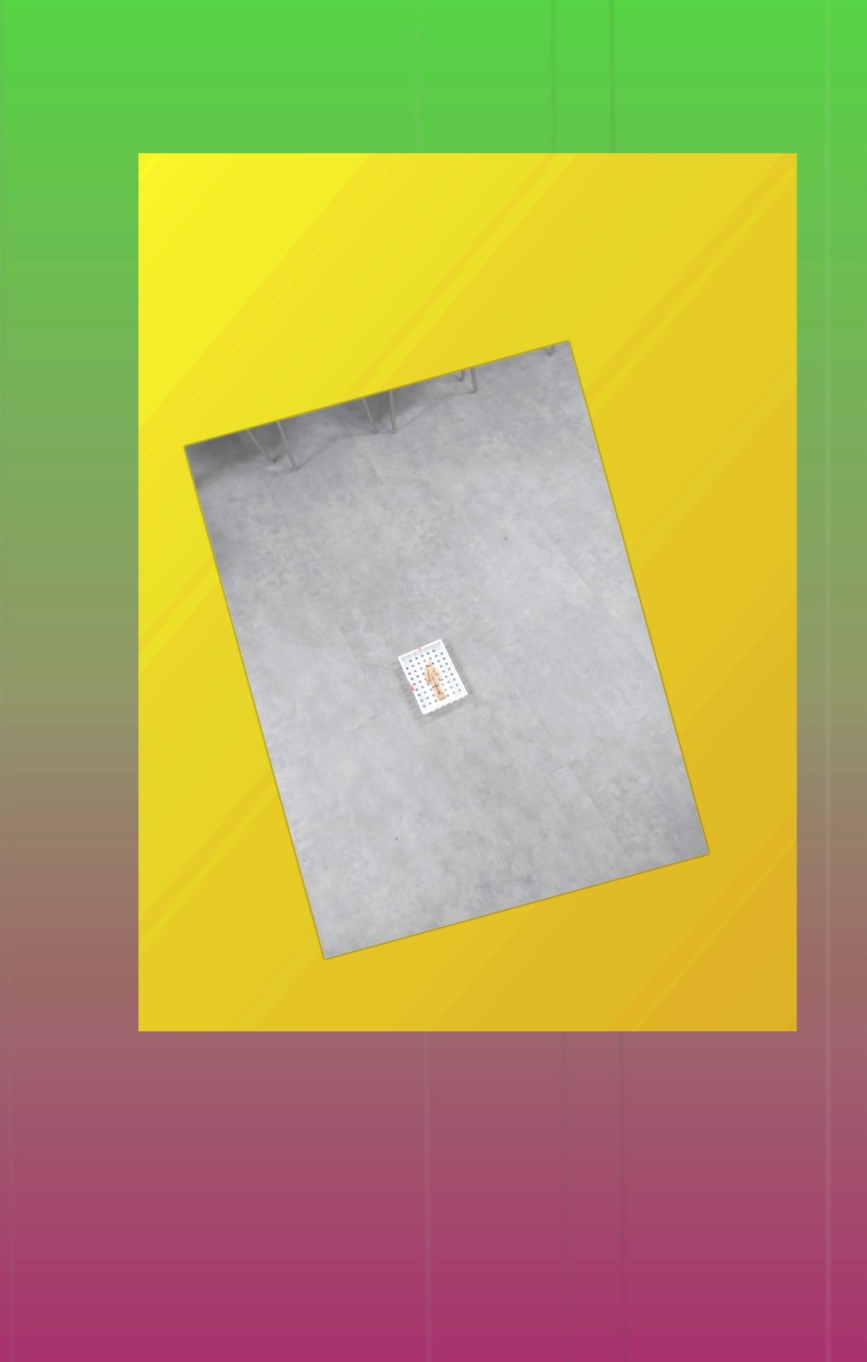basket: (396, 638, 471, 716)
mannequin: (423, 658, 447, 702)
